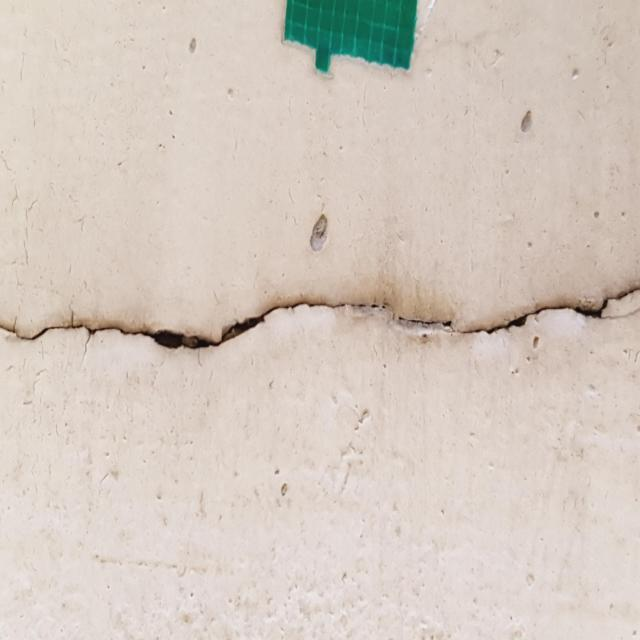SurfaceCrack: (1, 229, 640, 379)
